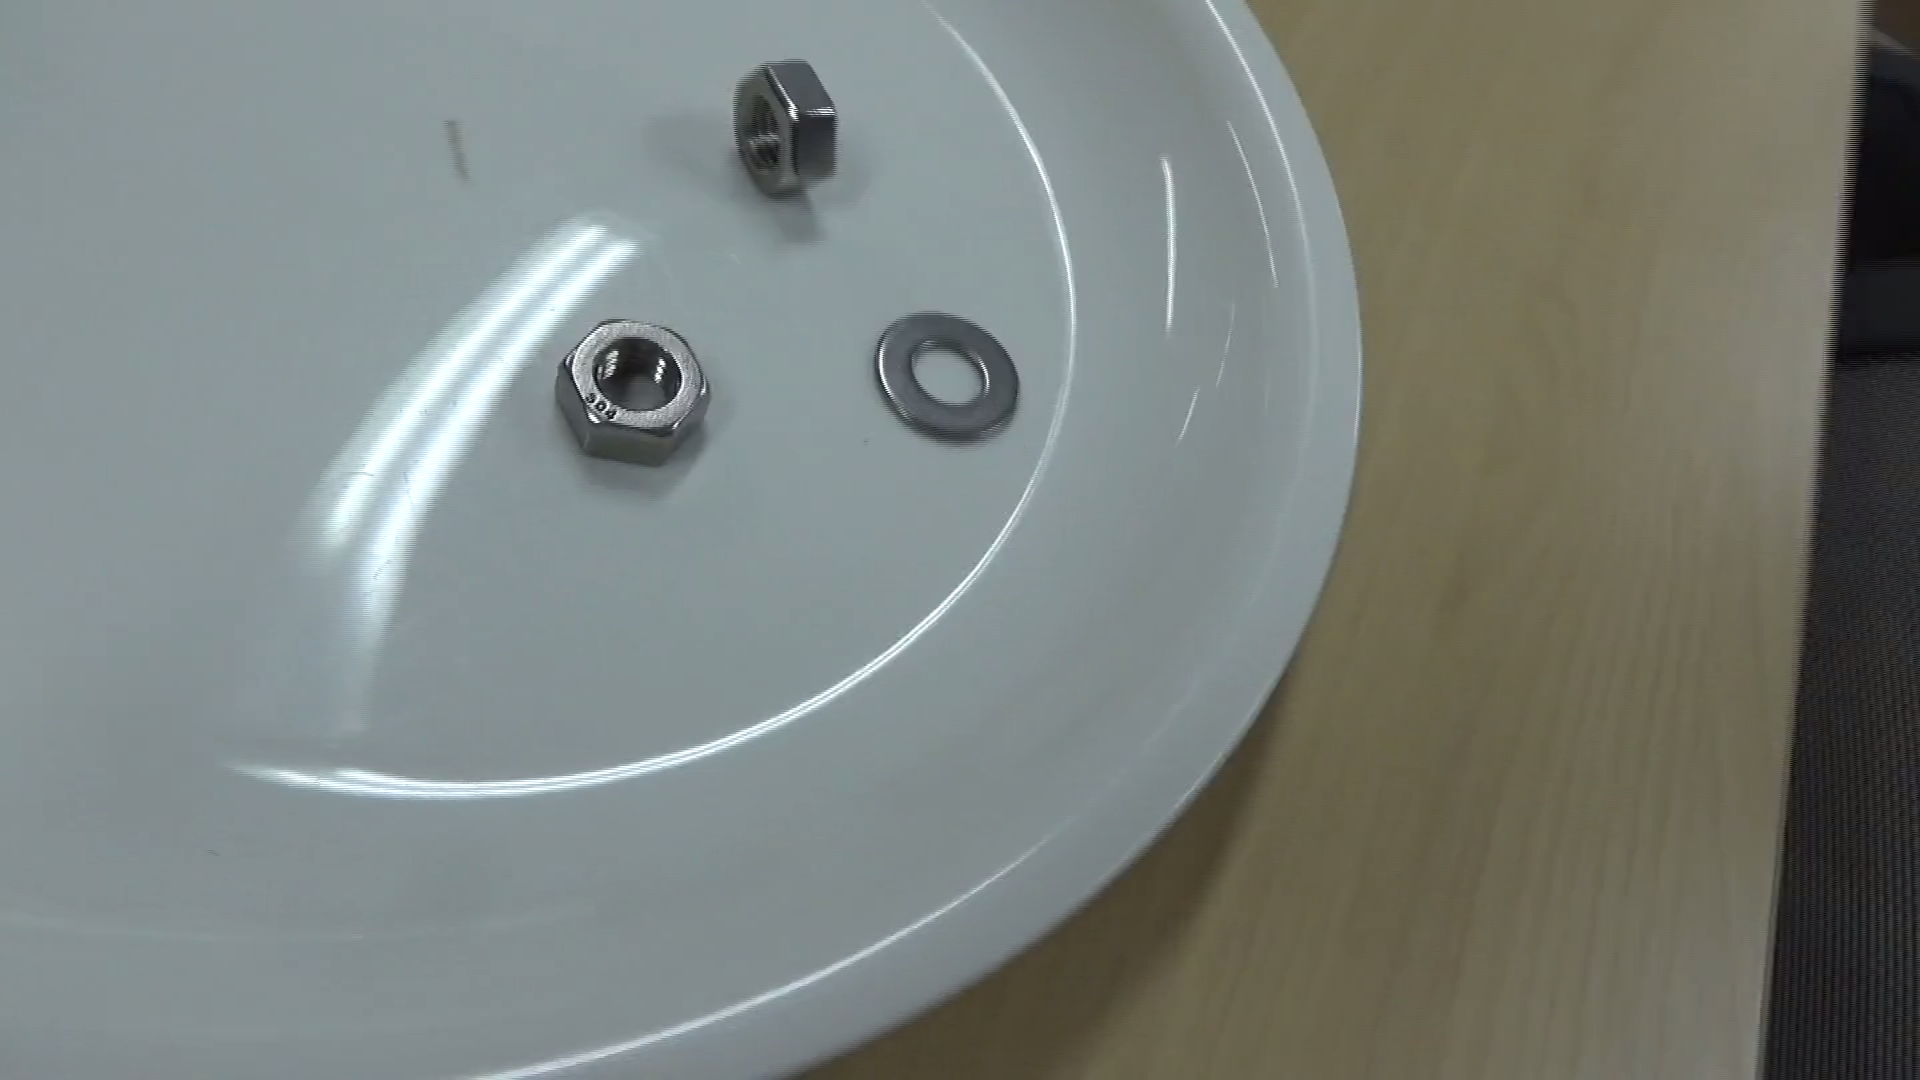nut: (538, 305, 737, 480), (713, 45, 856, 219)
washer: (856, 280, 1040, 469)
